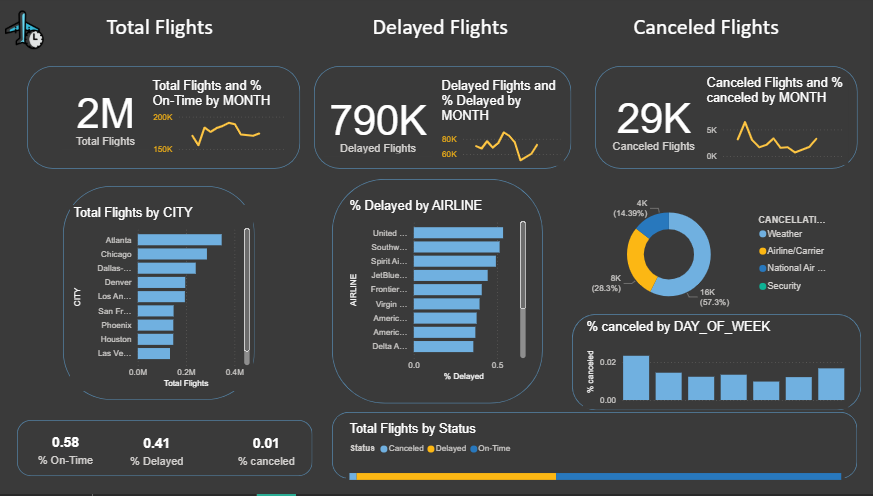

Layout of this report page (visuals, bound fields, positions):
{"tool":"powerbi","page":{"name":"FlightStatusDashboard","canvas":[1280,720],"ordinal":0},"visuals":[{"type":"shape","box":[499.1,601.7,759.4,96.5],"z":0},{"type":"shape","box":[58.2,101.1,395,148.5],"z":1000},{"type":"shape","box":[473.1,101.1,372.1,148.5],"z":2000},{"type":"shape","box":[878.9,101.1,379.7,148.5],"z":3000},{"type":"shape","box":[42.9,612.4,427.2,81.1],"z":4000},{"type":"shape","box":[110.2,274.1,277.1,309.3],"z":5000},{"type":"shape","box":[499.1,264.9,304.7,324.6],"z":6000},{"type":"shape","box":[845.2,459.3,418,139.3],"z":7000},{"type":"card","fields":{"Values":["flights.Total Flights"]},"box":[108.7,124,125.6,98],"z":8000},{"type":"lineChart","fields":{"Category":["flights.MONTH"],"Y":["flights.Total Flights"]},"box":[234.3,117.9,200.6,117.9],"z":9000},{"type":"card","fields":{"Values":["flights.Delayed Flights"]},"box":[486.9,134.7,156.2,98],"z":10000},{"type":"lineChart","fields":{"Category":["flights.MONTH"],"Y":["flights.Delayed Flights"]},"box":[652.2,117.9,182.2,127.1],"z":11000},{"type":"card","fields":{"Values":["flights.Canceled Flights"]},"box":[894.2,128.6,140.9,104.1],"z":12000},{"type":"lineChart","fields":{"Category":["flights.MONTH"],"Y":["flights.Canceled Flights"]},"box":[1035,114.8,209.8,130.1],"z":13000},{"type":"card","fields":{"Values":["flights.% On-Time"]},"box":[64.3,618.6,99.5,72],"z":14000},{"type":"card","fields":{"Values":["flights.% Delayed"]},"box":[199,621.6,91.9,68.9],"z":15000},{"type":"card","fields":{"Values":["flights.% canceled"]},"box":[356.7,620.1,93.4,72],"z":16000},{"type":"clusteredBarChart","fields":{"Category":["airports.CITY"],"Y":["flights.Total Flights"]},"box":[119.4,301.6,264.9,269.5],"z":17000},{"type":"clusteredBarChart","fields":{"Category":["airlines.AIRLINE"],"Y":["flights.% Delayed"]},"box":[519,292.4,264.9,269.5],"z":18000},{"type":"donutChart","fields":{"Category":["cancellation_codes.CANCELLATION_DESCRIPTION"],"Y":["flights.Canceled Flights"]},"box":[851.3,287.8,379.7,171.5],"z":19000},{"type":"columnChart","fields":{"Category":["flights.DAY_OF_WEEK"],"Y":["flights.% canceled"]},"box":[862,467,382.8,130.1],"z":20000},{"type":"hundredPercentStackedBarChart","fields":{"Y":["flights.Total Flights"],"Series":["flights.Status"]},"box":[519,614,721.1,104.1],"z":21000},{"type":"textbox","box":[168.4,19.9,212.8,61.2],"z":22000},{"type":"textbox","box":[552.7,19.9,251.1,61.2],"z":23000},{"type":"textbox","box":[929.4,19.9,251.1,61.2],"z":24000},{"type":"image","box":[0,15.3,108.7,65.8],"z":25000}]}

Visuals, with their boxes in screenshot pixels (x1, y1, x2, y2), scaled from the page's 1280x720 canvas onto the 873x496 screenshot:
shape: (left=340, top=415, right=858, bottom=481)
shape: (left=40, top=70, right=309, bottom=172)
shape: (left=323, top=70, right=576, bottom=172)
shape: (left=599, top=70, right=858, bottom=172)
shape: (left=29, top=422, right=321, bottom=478)
shape: (left=75, top=189, right=264, bottom=402)
shape: (left=340, top=182, right=548, bottom=406)
shape: (left=576, top=316, right=862, bottom=412)
card - flights.Total Flights: (left=74, top=85, right=160, bottom=153)
lineChart - flights.MONTH x flights.Total Flights: (left=160, top=81, right=297, bottom=162)
card - flights.Delayed Flights: (left=332, top=93, right=439, bottom=160)
lineChart - flights.MONTH x flights.Delayed Flights: (left=445, top=81, right=569, bottom=169)
card - flights.Canceled Flights: (left=610, top=89, right=706, bottom=160)
lineChart - flights.MONTH x flights.Canceled Flights: (left=706, top=79, right=849, bottom=169)
card - flights.% On-Time: (left=44, top=426, right=112, bottom=476)
card - flights.% Delayed: (left=136, top=428, right=198, bottom=476)
card - flights.% canceled: (left=243, top=427, right=307, bottom=477)
clusteredBarChart - airports.CITY x flights.Total Flights: (left=81, top=208, right=262, bottom=393)
clusteredBarChart - airlines.AIRLINE x flights.% Delayed: (left=354, top=201, right=535, bottom=387)
donutChart - cancellation_codes.CANCELLATION_DESCRIPTION x flights.Canceled Flights: (left=581, top=198, right=840, bottom=316)
columnChart - flights.DAY_OF_WEEK x flights.% canceled: (left=588, top=322, right=849, bottom=411)
hundredPercentStackedBarChart - flights.Total Flights x flights.Status: (left=354, top=423, right=846, bottom=495)
textbox: (left=115, top=14, right=260, bottom=56)
textbox: (left=377, top=14, right=548, bottom=56)
textbox: (left=634, top=14, right=805, bottom=56)
image: (left=0, top=11, right=74, bottom=56)
